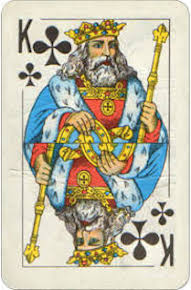KingOfClubs: (1, 1, 191, 289)
